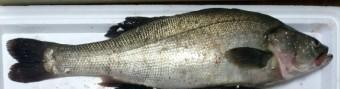fish: (8, 8, 331, 88)
